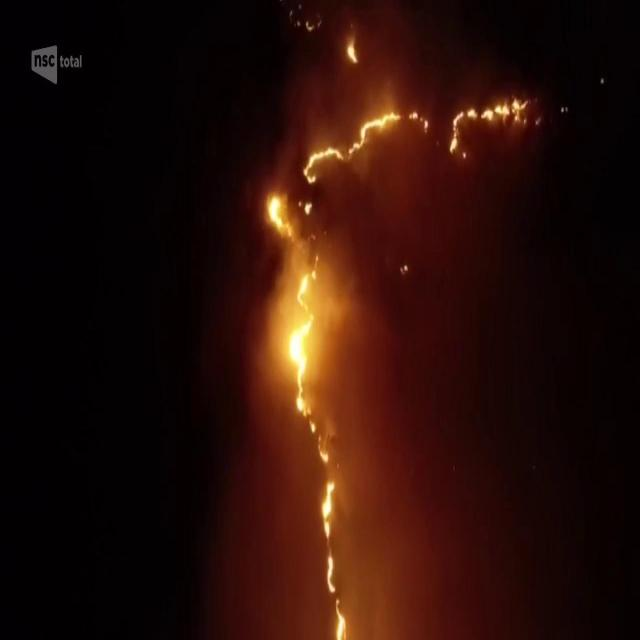Fire: (278, 268, 334, 462), (447, 97, 525, 155), (351, 110, 399, 150), (263, 194, 294, 239), (307, 146, 343, 182), (323, 477, 335, 538), (334, 600, 348, 638), (411, 109, 429, 132), (327, 551, 335, 594), (345, 43, 357, 63), (304, 204, 314, 216)
